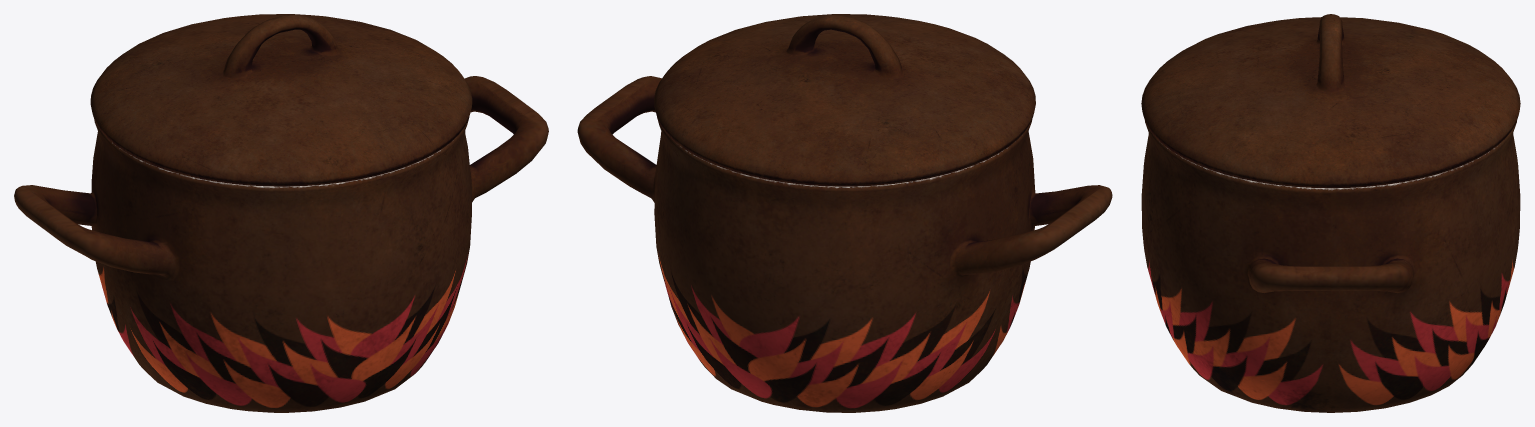
The model's file is pot_enamel.glb.
3 renders of one model, left to right at view 1: azimuth 30°, elevation 25°; view 2: azimuth 150°, elevation 25°; view 3: azimuth 270°, elevation 25°, orthographic.
Parts seen in each view (by area): view 1: pot_enamel_01_base, pot_enamel_01_lid; view 2: pot_enamel_01_base, pot_enamel_01_lid; view 3: pot_enamel_01_base, pot_enamel_01_lid.
Part boxes in pixels (x1,y1,x2,y2): pot_enamel_01_base: (14, 76, 548, 412); pot_enamel_01_lid: (90, 14, 472, 186); pot_enamel_01_base: (577, 76, 1112, 412); pot_enamel_01_lid: (654, 14, 1035, 186); pot_enamel_01_base: (1141, 121, 1520, 412); pot_enamel_01_lid: (1141, 14, 1520, 188).
Bounding box in the file's own units: 0.3 × 0.2035 × 0.2061.
1 material, 1 textured.
